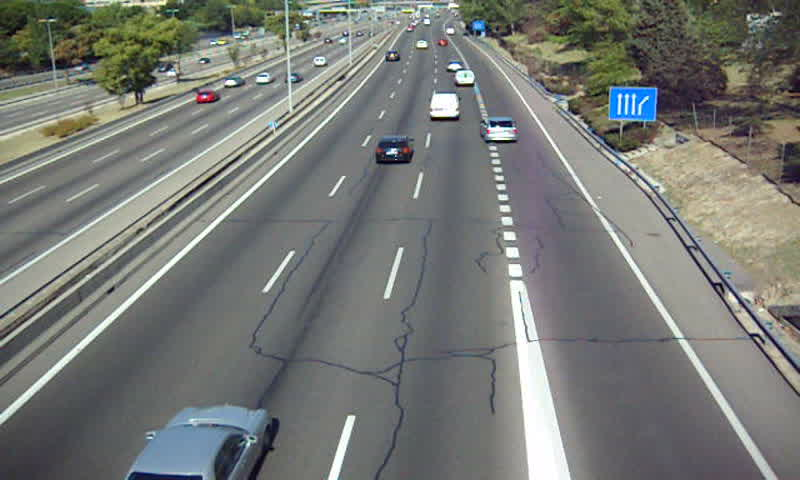car: (124, 405, 272, 480), (375, 134, 414, 164), (482, 116, 519, 144), (446, 60, 464, 73), (386, 50, 400, 62)
van: (429, 93, 460, 121), (455, 70, 476, 88)
